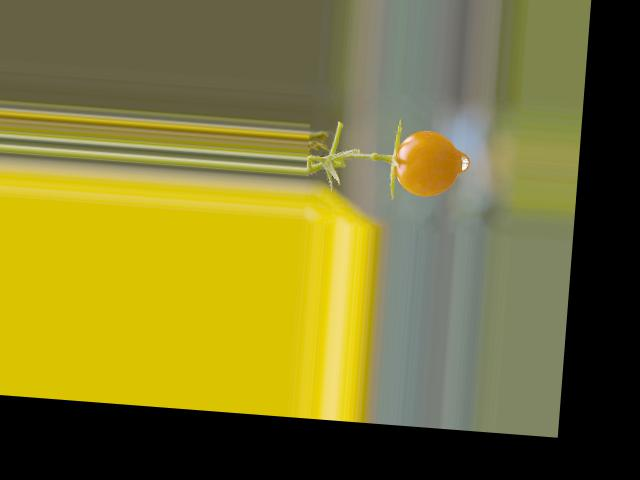tomato: (392, 127, 462, 198)
